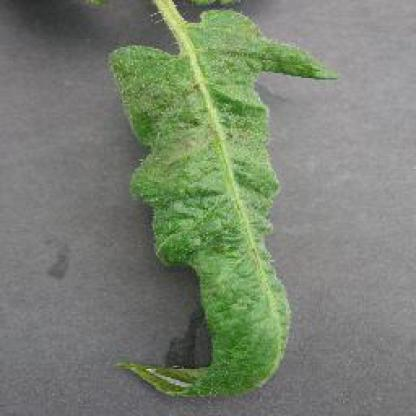bad leaf: (130, 9, 293, 374)
